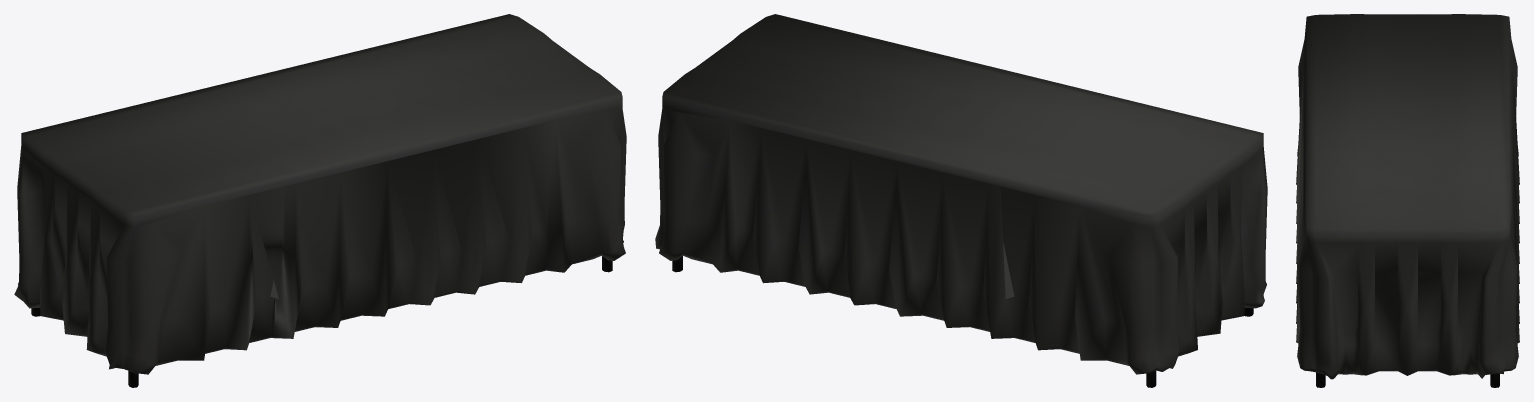
File: ringside_table.glb
3 renders of one model, left to right at view 1: azimuth 30°, elevation 25°; view 2: azimuth 150°, elevation 25°; view 3: azimuth 270°, elevation 25°, orthographic. The views are drawn at different scales.
Visible parts, largest first — view 1: tripo_node_3e3810fd-cabe-4155-8fc6-b025467d3be0; view 2: tripo_node_3e3810fd-cabe-4155-8fc6-b025467d3be0; view 3: tripo_node_3e3810fd-cabe-4155-8fc6-b025467d3be0.
Part boxes in pixels (x1=…): tripo_node_3e3810fd-cabe-4155-8fc6-b025467d3be0: x1=14, y1=14, x2=626, y2=387; tripo_node_3e3810fd-cabe-4155-8fc6-b025467d3be0: x1=655, y1=14, x2=1267, y2=387; tripo_node_3e3810fd-cabe-4155-8fc6-b025467d3be0: x1=1296, y1=14, x2=1519, y2=387.
Bounding box in the file's own units: 1 × 0.3268 × 0.4168.
Materials: 1 (1 with a texture image).
